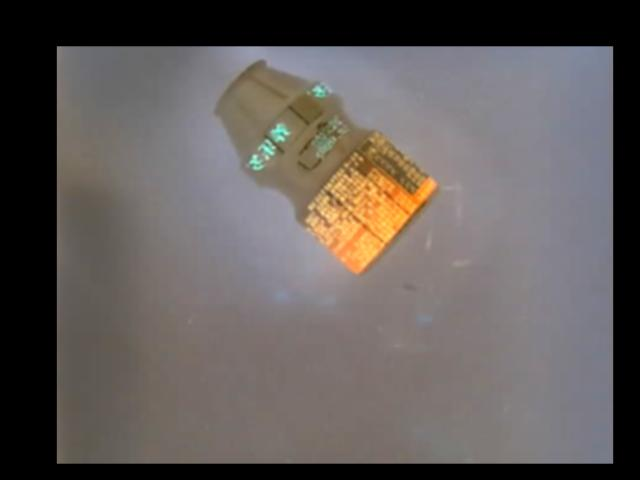Bottle: (213, 60, 441, 274)
